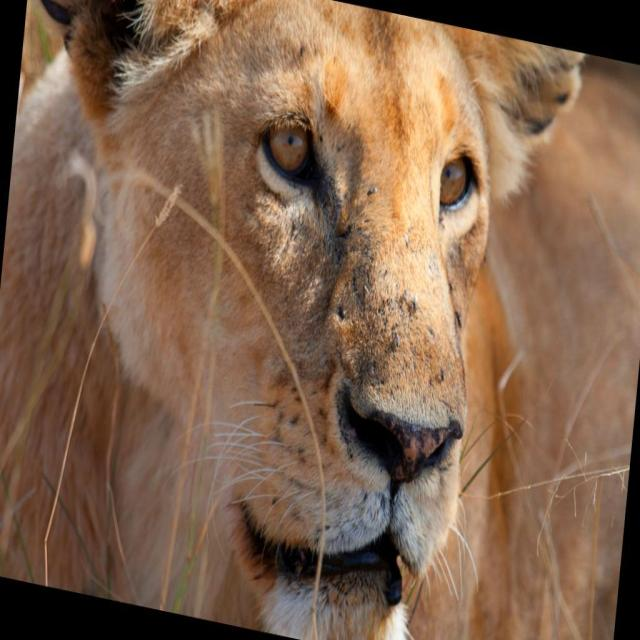Lion: (0, 0, 586, 639)
